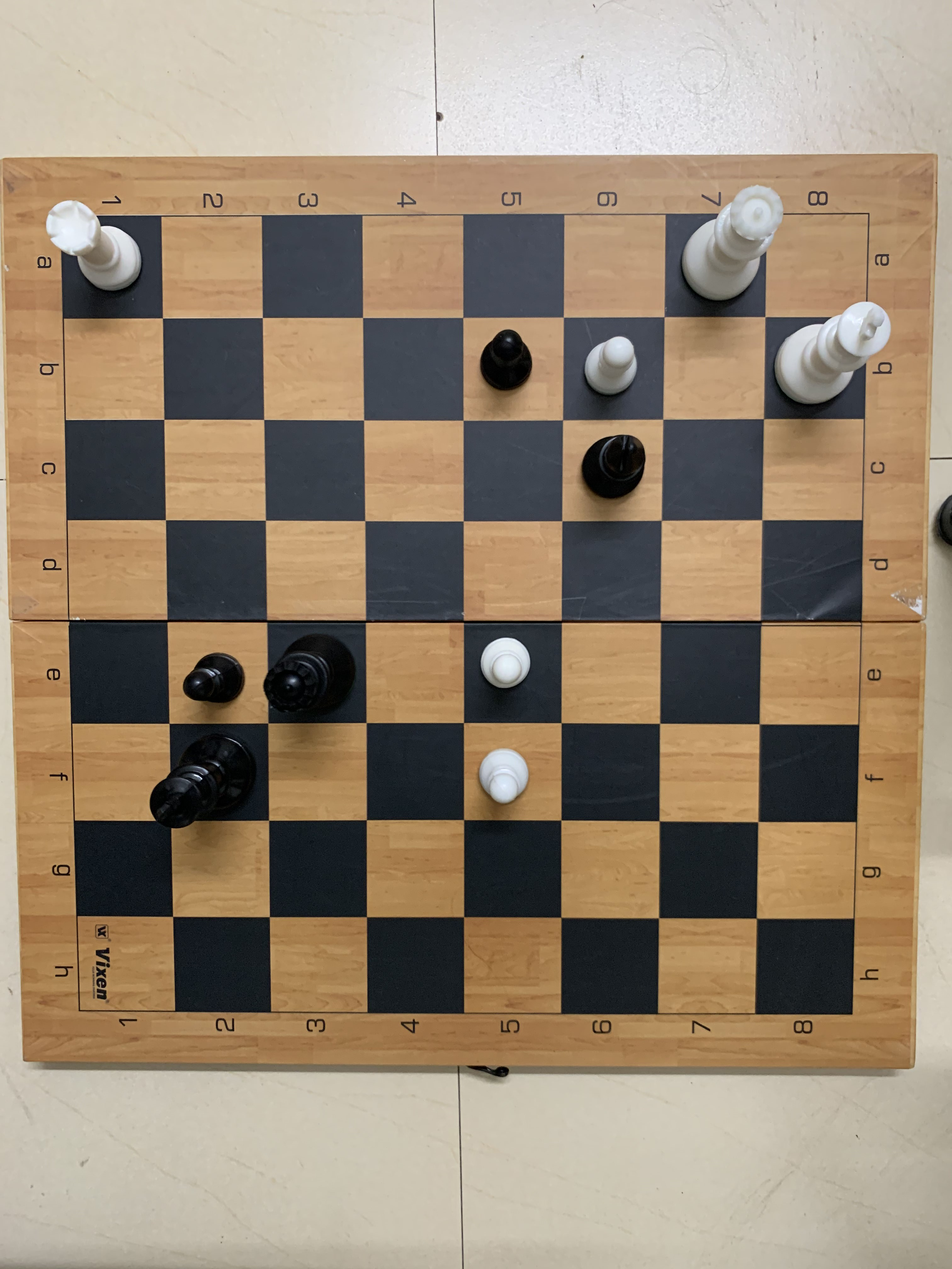black_bishop: (576, 425, 668, 531)
black_king: (131, 724, 258, 841)
black_pawn: (175, 636, 269, 726), (472, 320, 551, 411)
black_queen: (260, 628, 361, 734)
white_king: (782, 304, 900, 410)
white_pawn: (463, 622, 556, 702), (474, 724, 547, 813), (568, 324, 649, 401)
white_queen: (664, 184, 802, 302)
white_rook: (36, 197, 157, 305)
